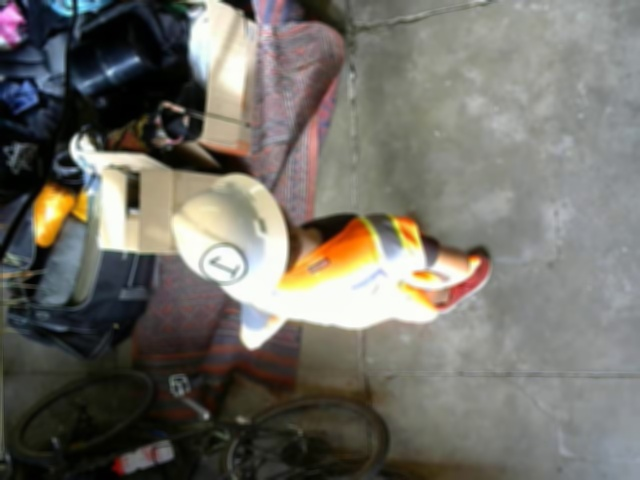one: (200, 244, 246, 283)
